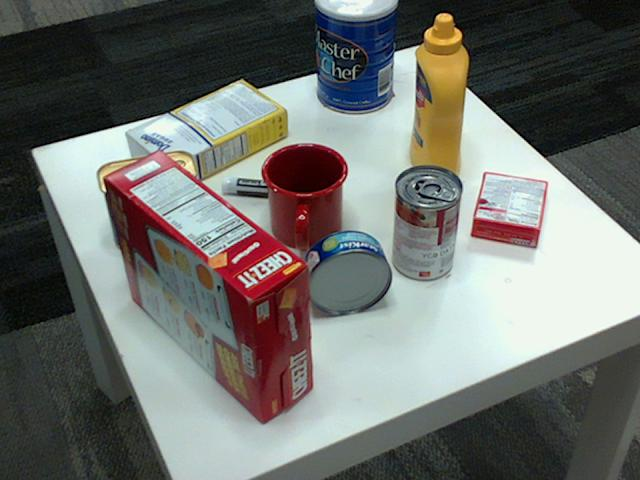cracker_box: (101, 149, 313, 420)
gelatin_box: (472, 171, 548, 246)
large_marker: (220, 180, 324, 200)
master_chef_can: (313, 0, 395, 113)
mug: (261, 140, 349, 248)
mustard_bottle: (409, 14, 467, 182)
potted_meat_can: (97, 150, 202, 251)
sugar_box: (126, 78, 288, 190)
tomato_soup_can: (392, 164, 461, 279)
tuna_fish_can: (303, 230, 393, 313)
